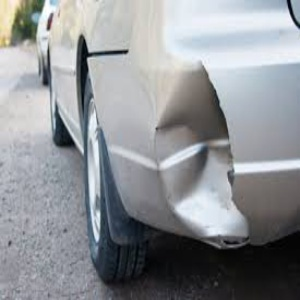bumper: (145, 48, 261, 250)
